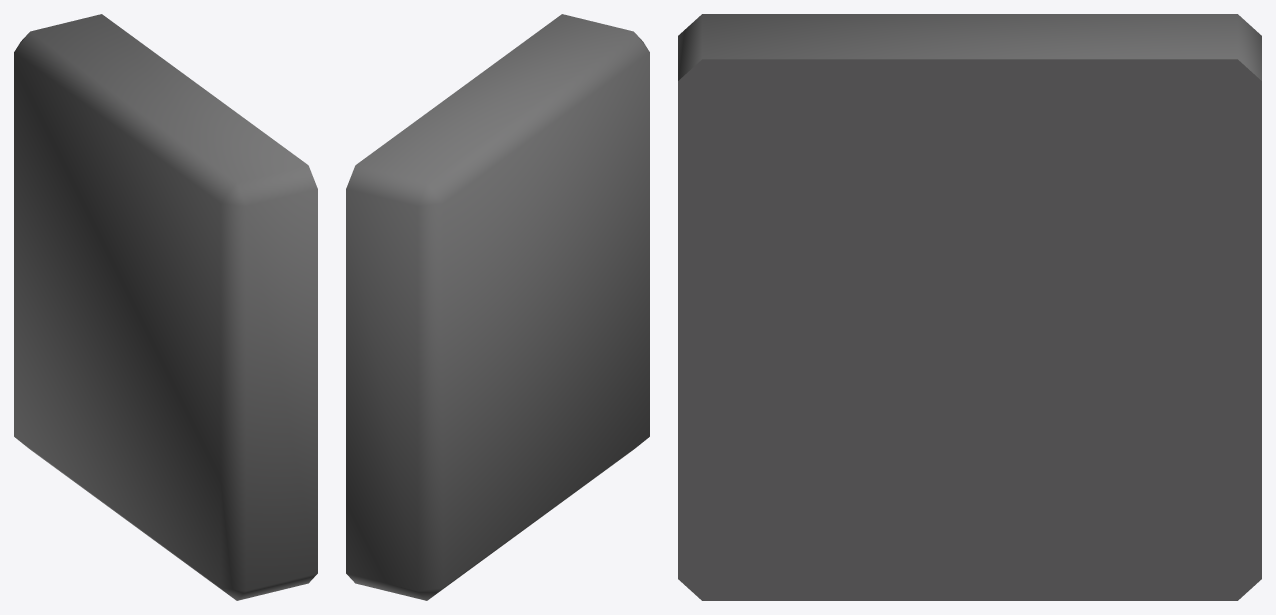
File: Table_1_1.glb
3 renders of one model, left to right at view 1: azimuth 30°, elevation 25°; view 2: azimuth 150°, elevation 25°; view 3: azimuth 270°, elevation 25°, orthographic. The views are drawn at different scales.
Parts seen in each view (by area): view 1: Table_1_1; view 2: Table_1_1; view 3: Table_1_1.
Boxes of the visible parts, x1,y1,x2,y2 form: Table_1_1: (14,14,317,600); Table_1_1: (346,14,649,600); Table_1_1: (678,14,1261,600).
Bounding box in the file's own units: 0.0894 × 0.4067 × 0.3972.
1 material, 1 textured.
